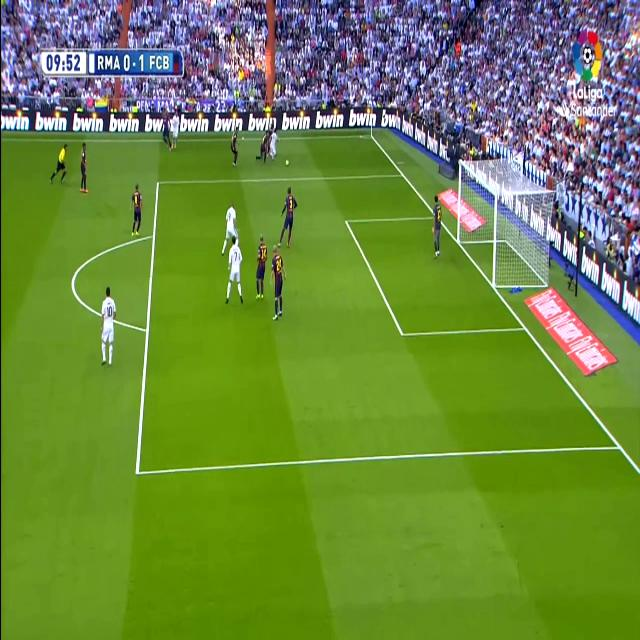bigarea_bottom_inner: (397, 320, 407, 346)
bigarea_top_inner: (342, 212, 350, 230)
bigarea_top_outter: (399, 168, 405, 180)
corner: (367, 130, 375, 141)
smallarea_bottom_outter: (520, 316, 530, 338)
